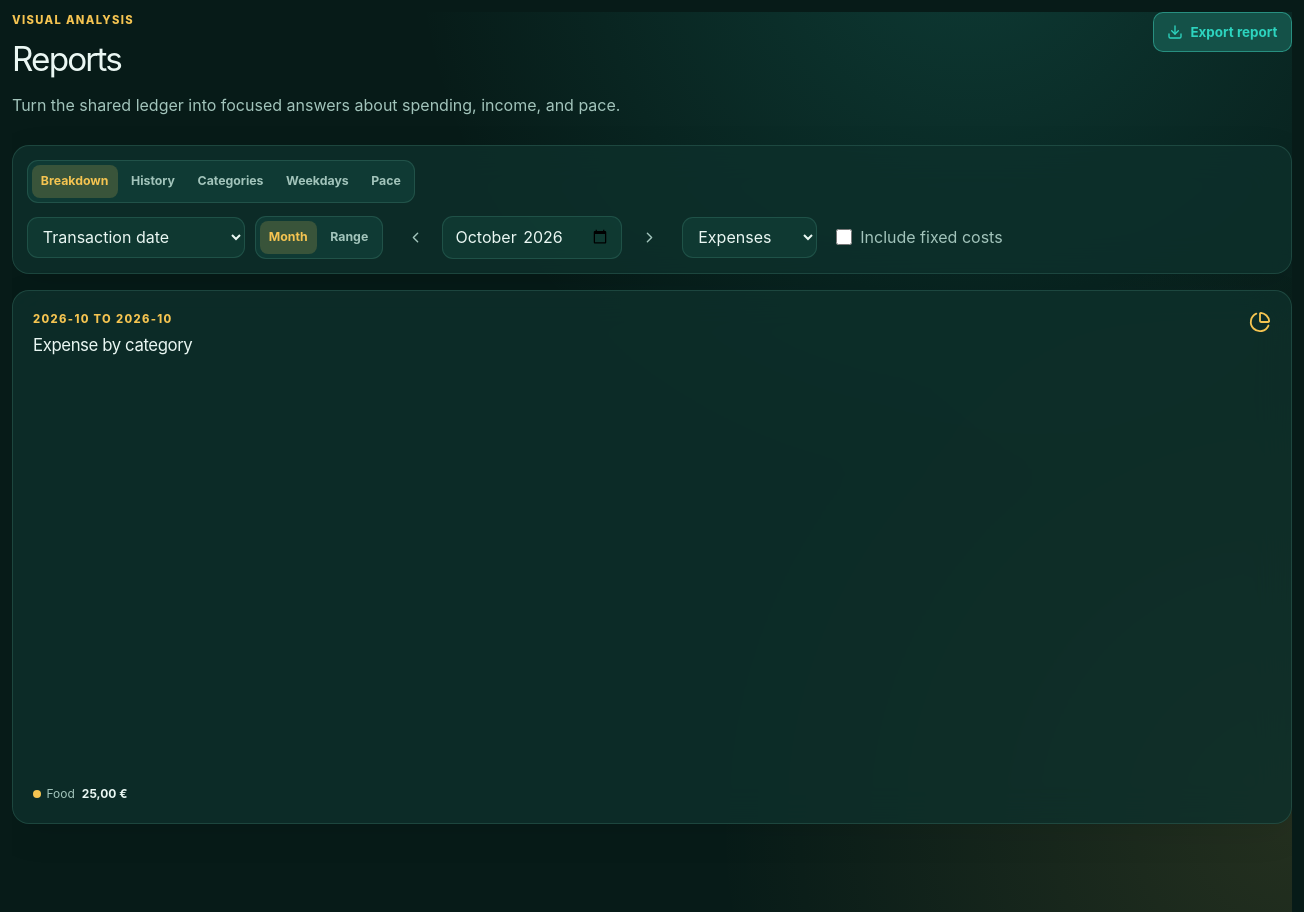
Test: ReportsScreen breakdown › excludes recurring costs by default and supports a month range
The width and height of the screenshot is (1304, 912).
Expected: the text "Food" is shown, [46,786,75,801]
Click the checkbox labelled "Include fixed costs". click: x=844, y=237
box: [836,229,852,245]
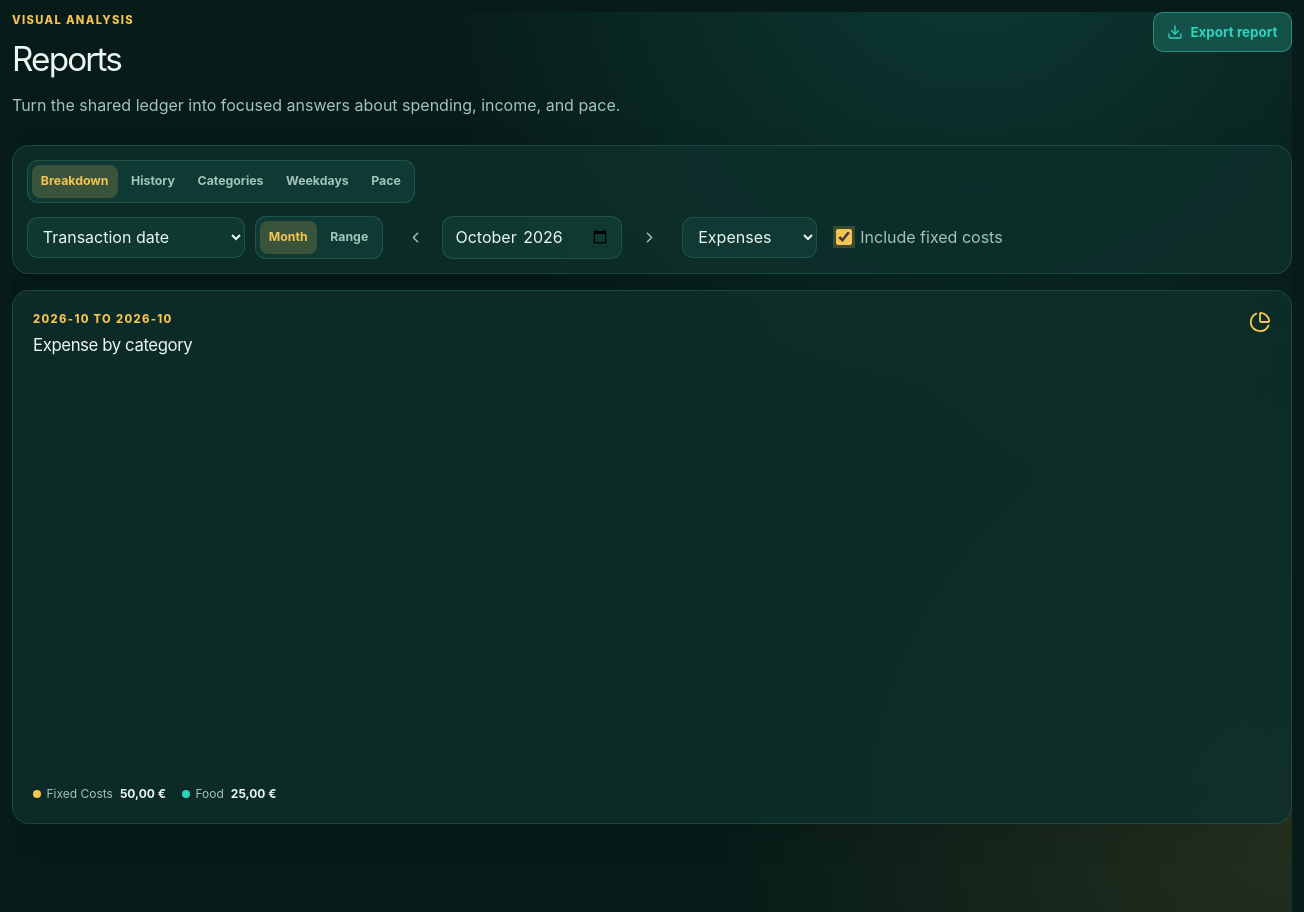
Expected: the text "Fixed Costs" is shown, [46,786,113,801]
Click the button "Range". click: x=349, y=237
box: [321,221,378,254]
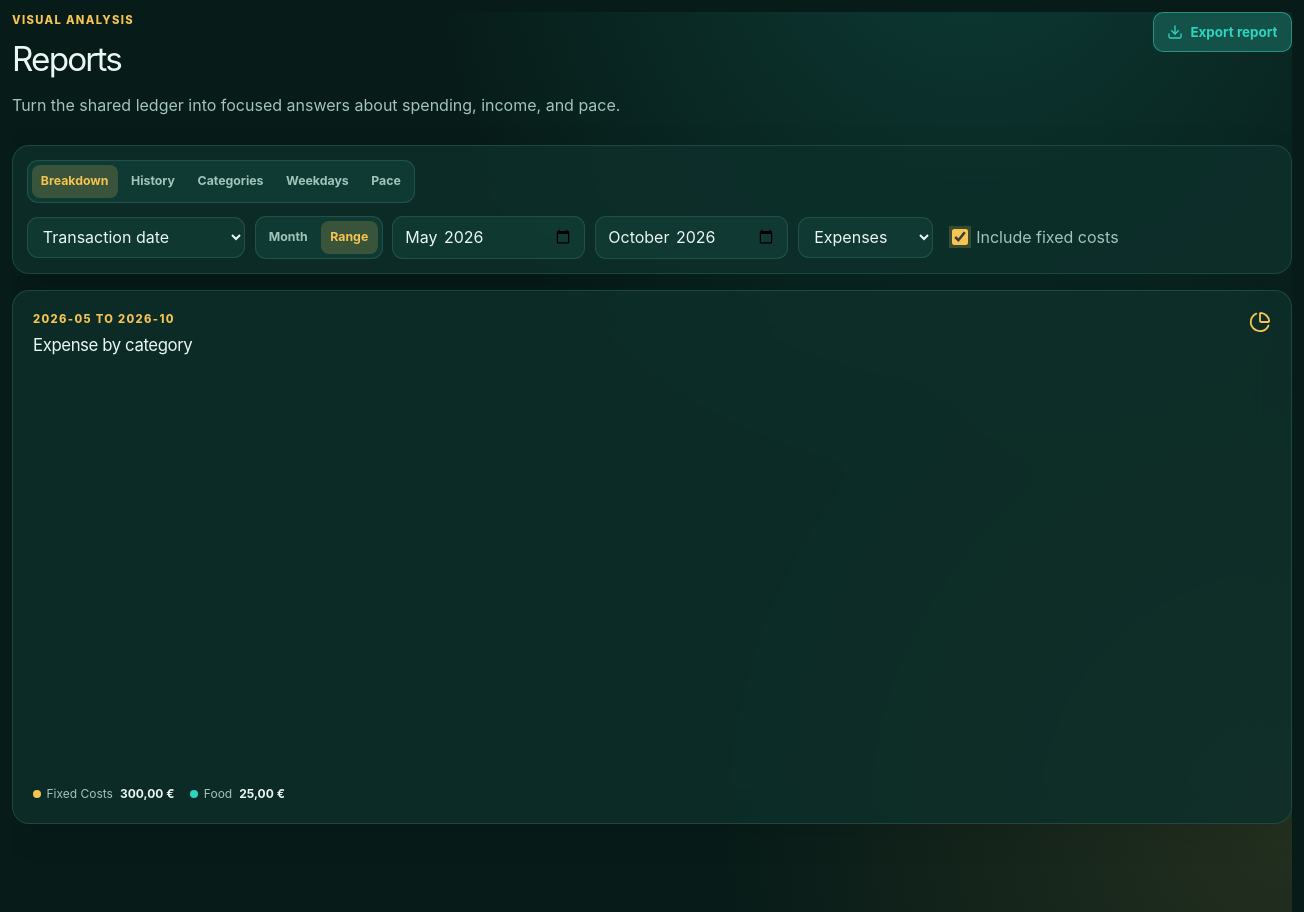
Replace the text in the field named "Report from month" with "2026-01". click: x=489, y=237
box: [392,216,586,259]
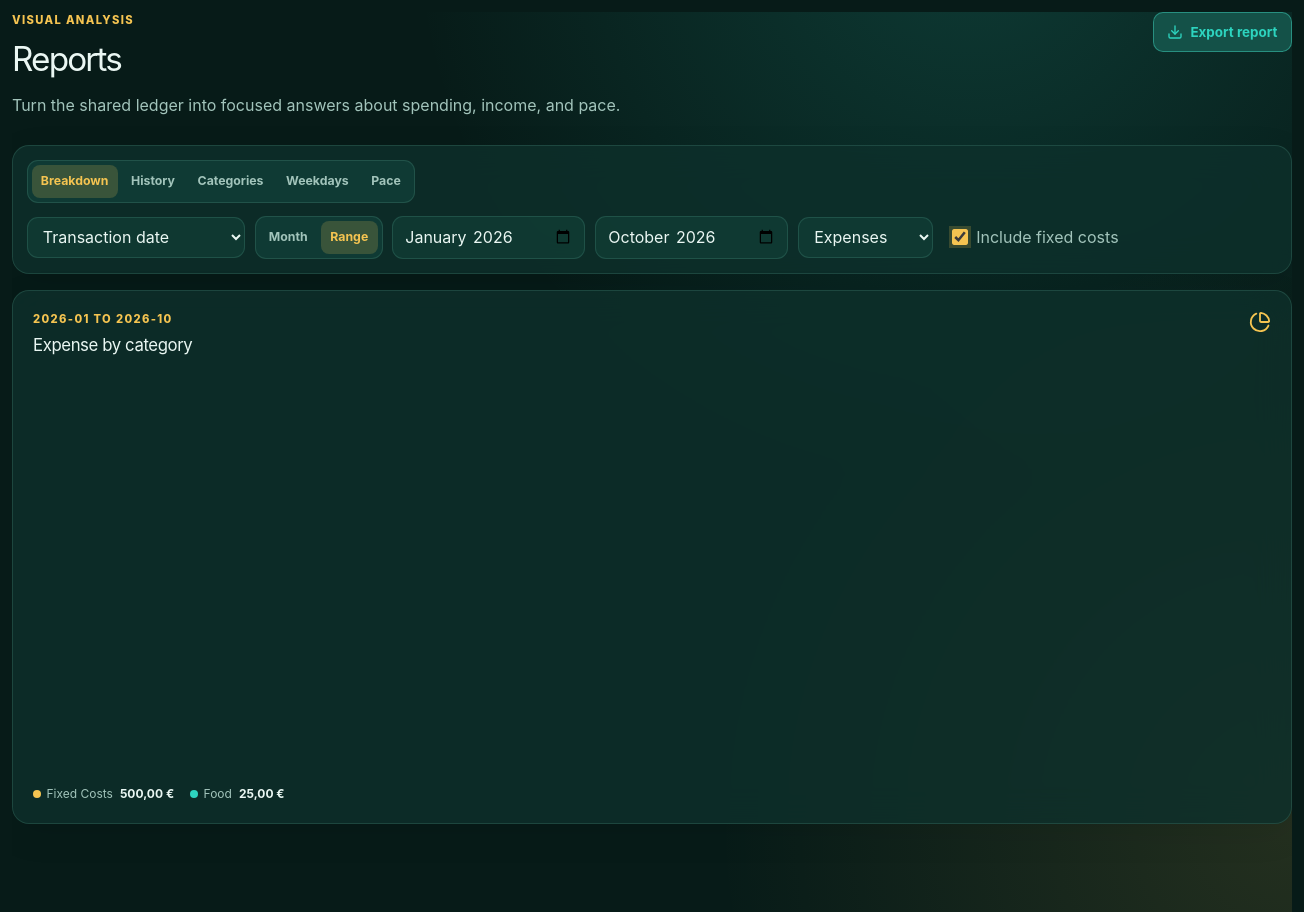
Replace the text in the field named "Report to month" with "2026-02". click: x=692, y=237
box: [595,216,788,259]
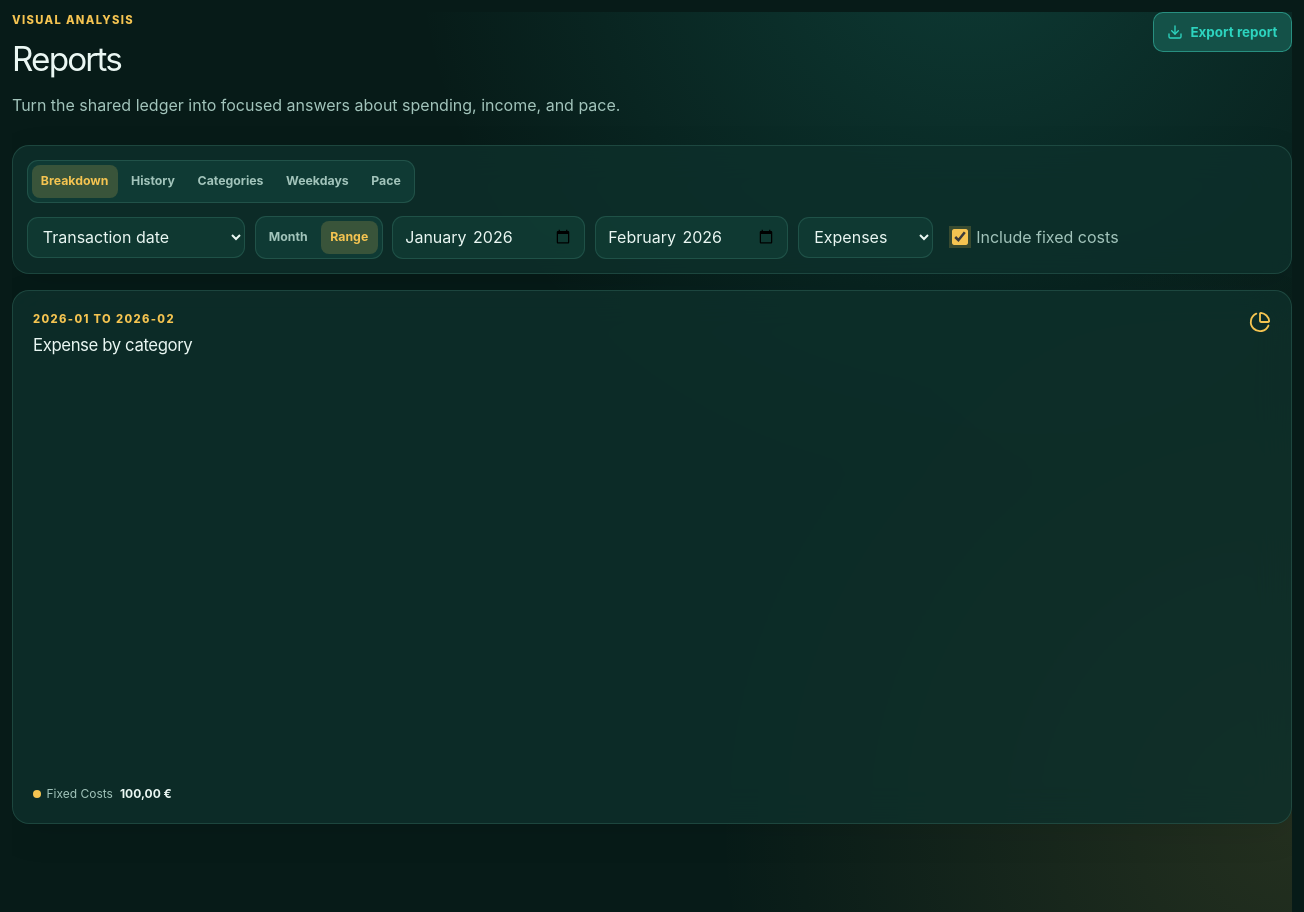
Expected: the text "2026-01 to 2026-02" is shown, [33,311,192,328]
